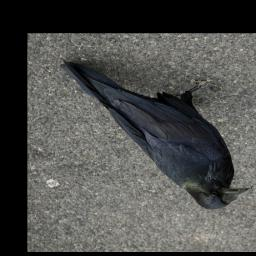Crow: (59, 59, 253, 210)
